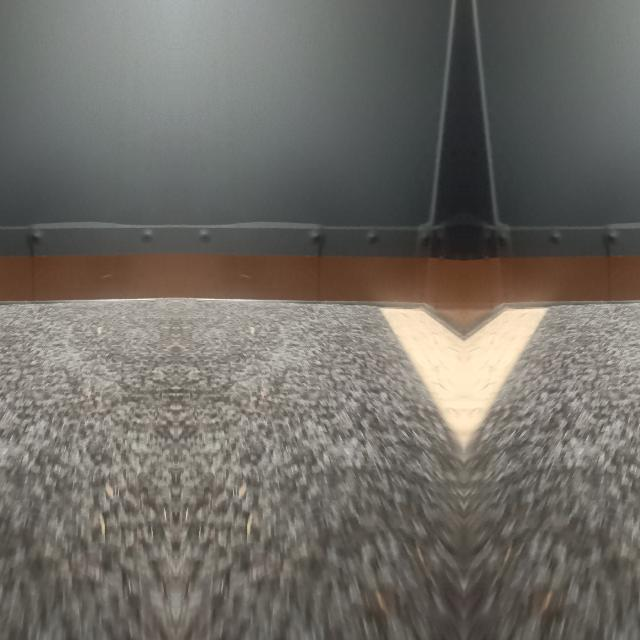obstacle: (178, 29, 430, 304), (0, 29, 172, 304), (496, 29, 640, 304)
